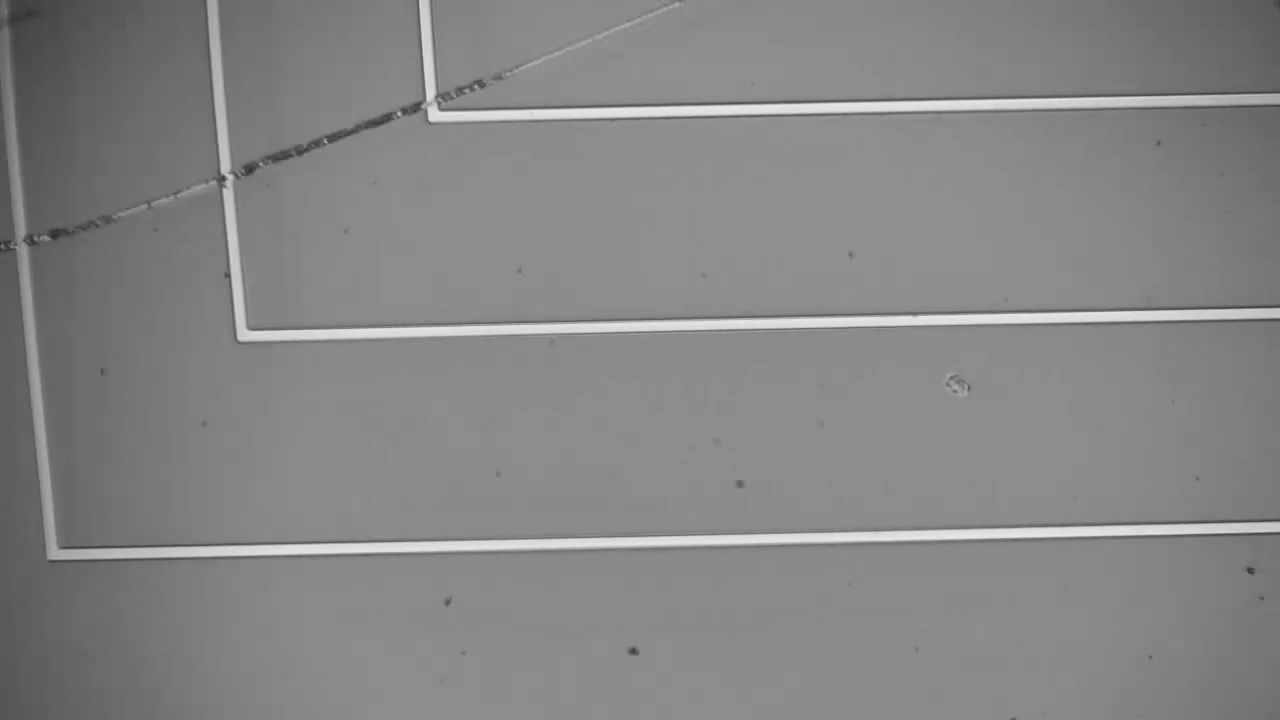scratch: (7, 1, 698, 255)
